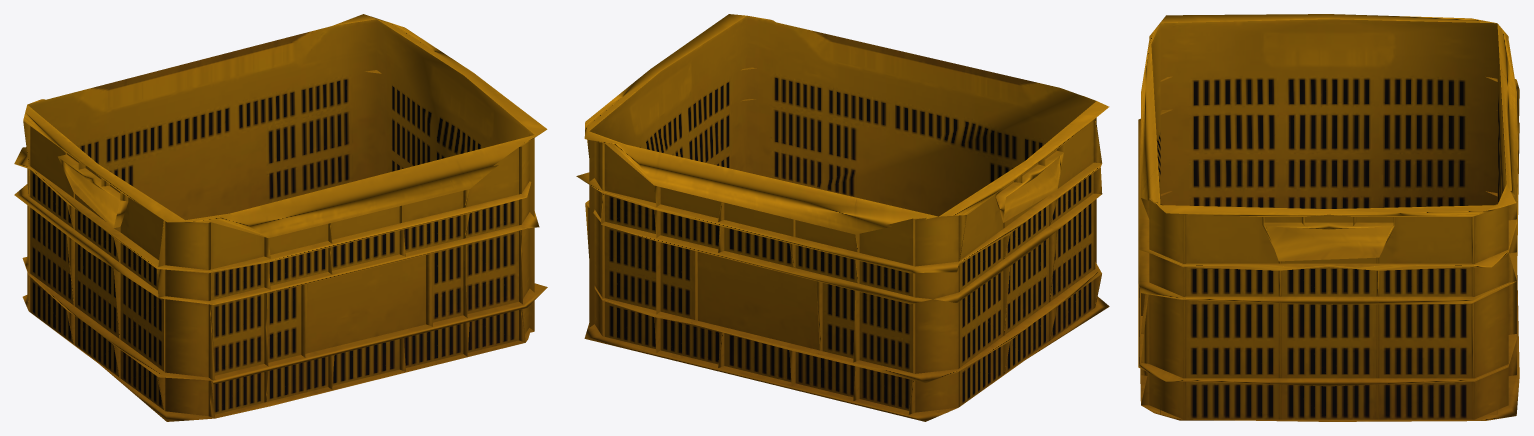
File: plastic_crate_02.glb
3 views of the same model, side by side, from view 1: azimuth 30°, elevation 25°; view 2: azimuth 150°, elevation 25°; view 3: azimuth 270°, elevation 25° (orthographic). The views are drawn at different scales.
Visible parts, largest first — view 1: plastic_crate_02; view 2: plastic_crate_02; view 3: plastic_crate_02.
Boxes of the visible parts, left/top/right/bottom form: plastic_crate_02: left=14, top=14, right=547, bottom=421; plastic_crate_02: left=576, top=14, right=1109, bottom=421; plastic_crate_02: left=1138, top=14, right=1519, bottom=421.
Bounding box in the file's own units: 0.5055 × 0.2504 × 0.4055.
Materials: 1 (1 with a texture image).
